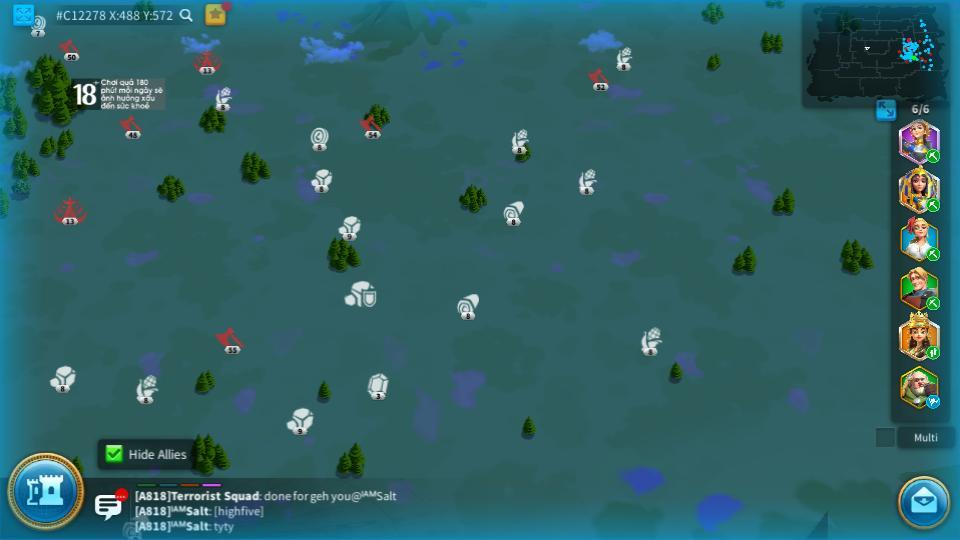gem-z-out: (365, 373, 390, 399)
march_farming: (924, 197, 939, 212), (925, 149, 941, 162), (925, 297, 941, 310), (924, 248, 939, 260)
march_idle: (925, 396, 942, 408)
march_marching: (925, 345, 941, 359)
